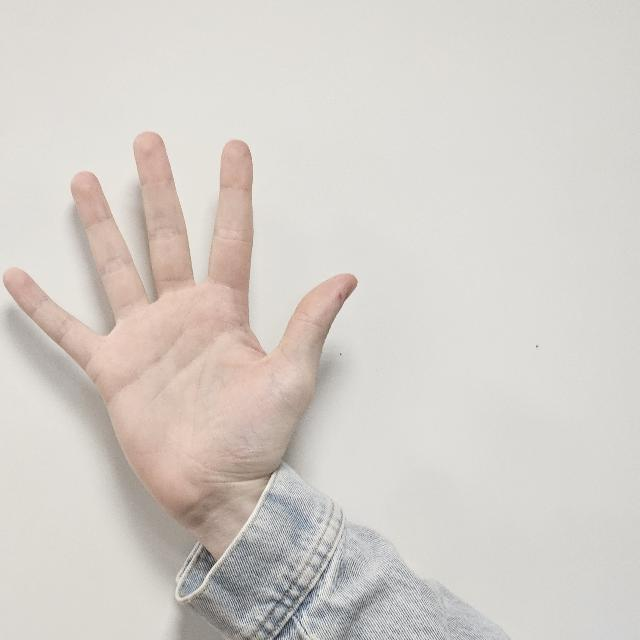X: (3, 134, 357, 526)
